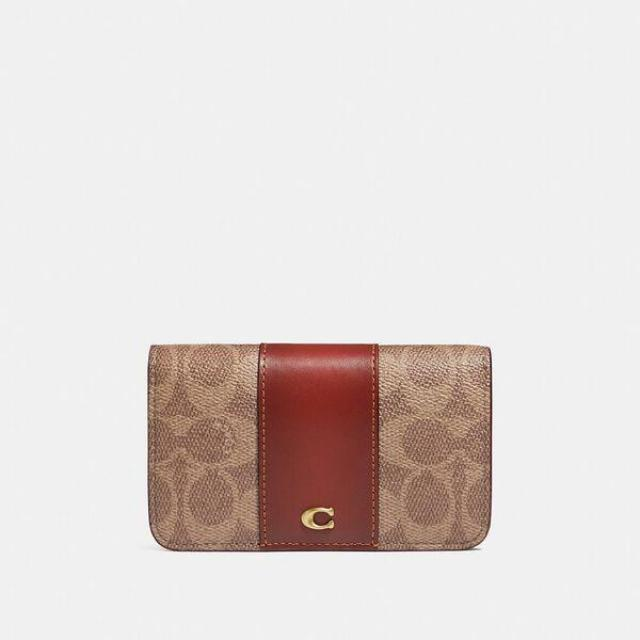wallet: (150, 342, 492, 550)
